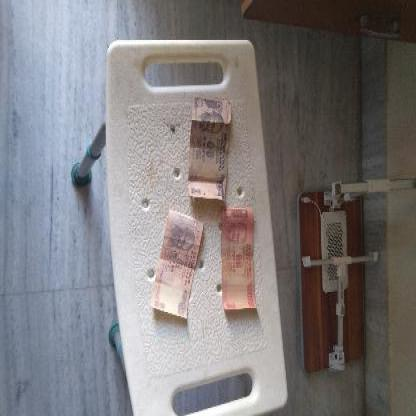Old10Front: (152, 213, 203, 319)
Old20Front: (223, 208, 253, 311)
Old50Front: (188, 98, 232, 198)
